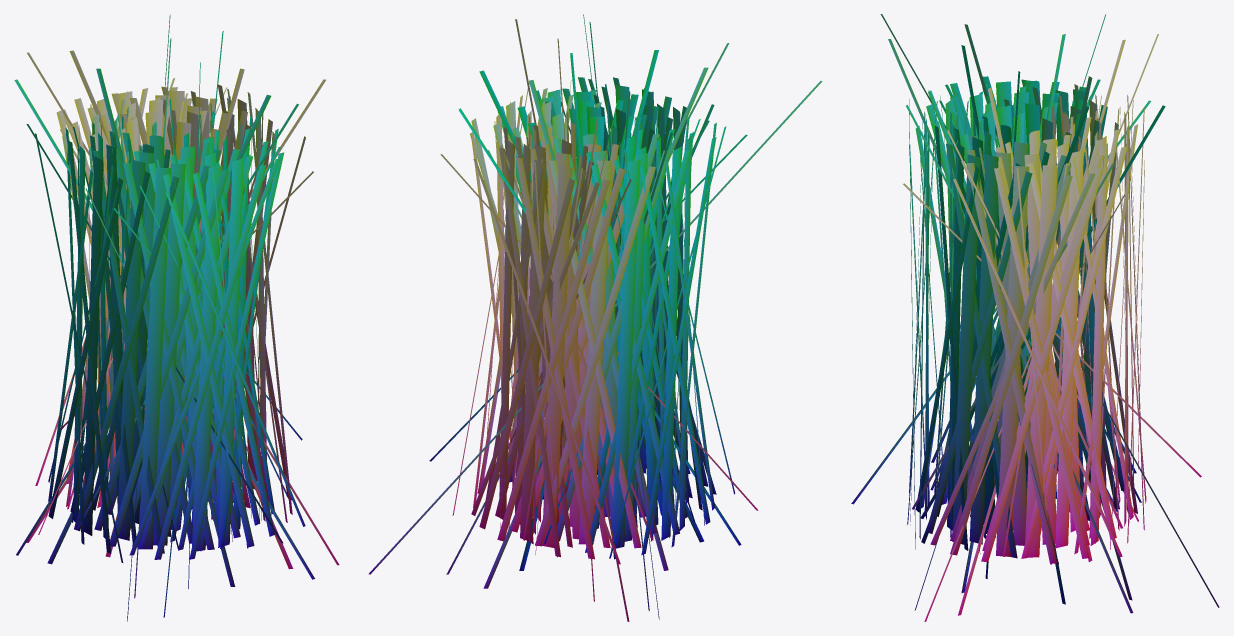
File: LilyForestSeparatedScaled.fbx
3 views of the same model, side by side, from view 1: azimuth 30°, elevation 25°; view 2: azimuth 150°, elevation 25°; view 3: azimuth 270°, elevation 25° (orthographic). The views are drawn at different scales.
Visible parts, largest first — view 1: polySurface191, polySurface188, polySurface184, polySurface178, polySurface192, polySurface195, polySurface186, polySurface185, polySurface194, polySurface180, polySurface190, polySurface179 (+50 smaller); view 2: polySurface140, polySurface144, polySurface141, polySurface150, polySurface133, polySurface146, polySurface143, polySurface145, polySurface152, polySurface157, polySurface151, polySurface142 (+46 smaller); view 3: polySurface174, polySurface161, polySurface167, polySurface171, polySurface158, polySurface163, polySurface169, polySurface162, polySurface168, polySurface157, polySurface160, polySurface173 (+51 smaller).
Boxes of the visible parts, box(x1,y1,x2,y2) form: polySurface191: box(138, 167, 170, 549); polySurface188: box(153, 163, 185, 545); polySurface184: box(192, 165, 222, 551); polySurface178: box(218, 158, 243, 547); polySurface192: box(117, 160, 145, 540); polySurface195: box(84, 156, 103, 535); polySurface186: box(154, 165, 266, 559); polySurface185: box(163, 174, 254, 547); polySurface194: box(74, 176, 179, 531); polySurface180: box(189, 152, 284, 559); polySurface190: box(110, 170, 229, 546); polySurface179: box(192, 172, 275, 536); polySurface140: box(611, 159, 640, 549); polySurface144: box(542, 165, 572, 547); polySurface141: box(578, 160, 611, 544); polySurface150: box(520, 159, 545, 541); polySurface133: box(661, 146, 681, 540); polySurface146: box(497, 179, 609, 541); polySurface143: box(535, 166, 655, 546); polySurface145: box(516, 158, 594, 559); polySurface152: box(479, 178, 574, 529); polySurface157: box(499, 140, 514, 519); polySurface151: box(499, 147, 560, 557); polySurface142: box(549, 160, 641, 548); polySurface174: box(952, 154, 980, 544); polySurface161: box(1025, 164, 1057, 557); polySurface167: box(996, 165, 1029, 556); polySurface171: box(969, 154, 998, 544); polySurface158: box(1055, 150, 1083, 548); polySurface163: box(981, 168, 1103, 561); polySurface169: box(950, 175, 1072, 555); polySurface162: box(994, 167, 1089, 558); polySurface168: box(966, 163, 1057, 563); polySurface157: box(1090, 143, 1107, 545); polySurface160: box(1021, 146, 1127, 558); polySurface173: box(926, 171, 1032, 533).
Size of the model in its own units: 21020 by 33565 by 21512.
